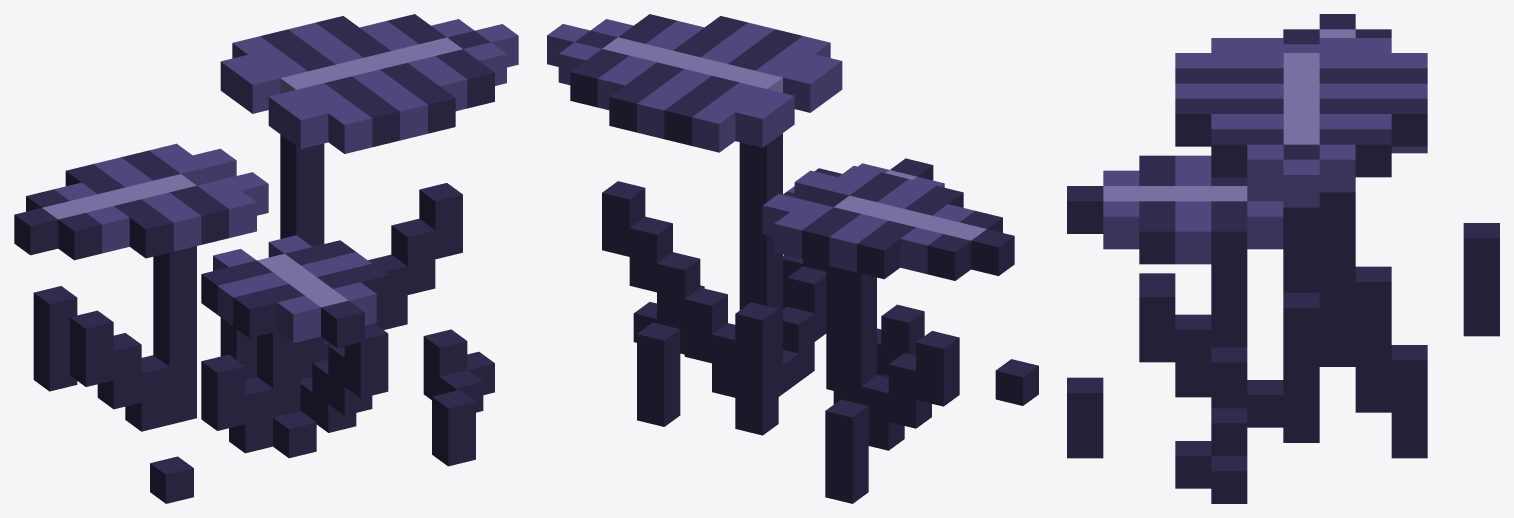
Rendered from plantes-violettes.obj.
3 renders of one model, left to right at view 1: azimuth 30°, elevation 25°; view 2: azimuth 150°, elevation 25°; view 3: azimuth 270°, elevation 25°, orthographic. The views are drawn at different scales.
Bounding box in the file's own units: 1.7 × 1.1 × 1.2.
Materials: 1 (1 with a texture image).
